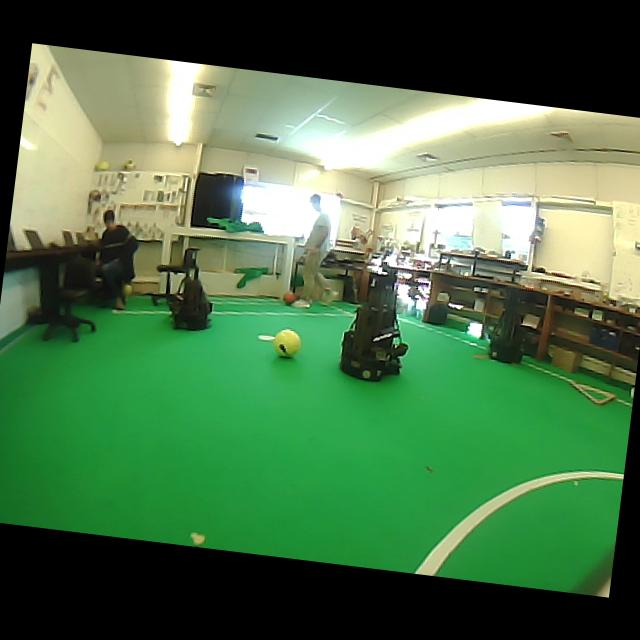ball: (273, 328, 300, 357), (282, 292, 296, 304), (122, 159, 135, 170), (95, 160, 109, 170), (122, 284, 132, 296)
goal: (281, 237, 295, 291)
robot: (339, 271, 408, 380), (169, 247, 211, 329), (489, 297, 522, 363)
